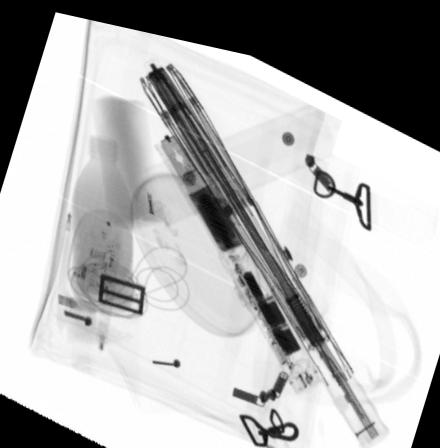Baton: (152, 120, 326, 382)
